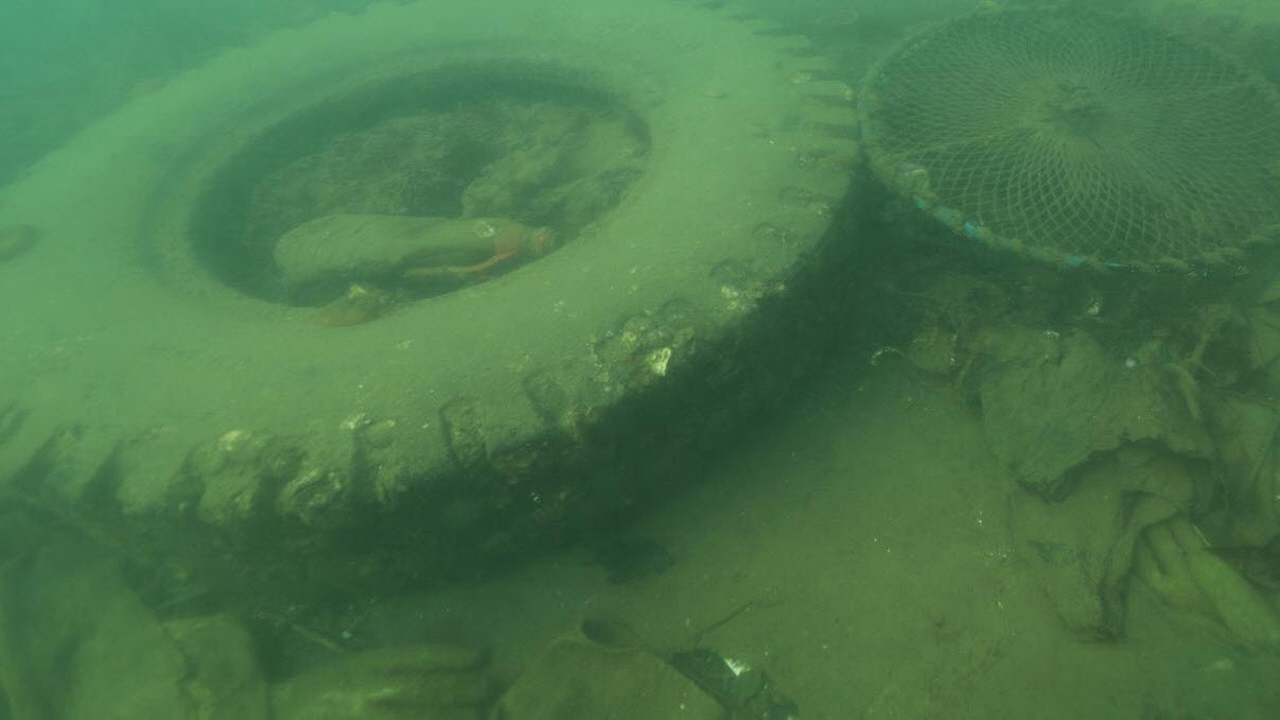circular fish trap: (856, 4, 1280, 308)
tire: (0, 0, 858, 590)
